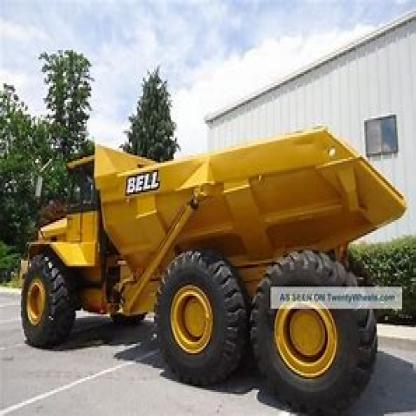dump_truck: (12, 135, 404, 405)
